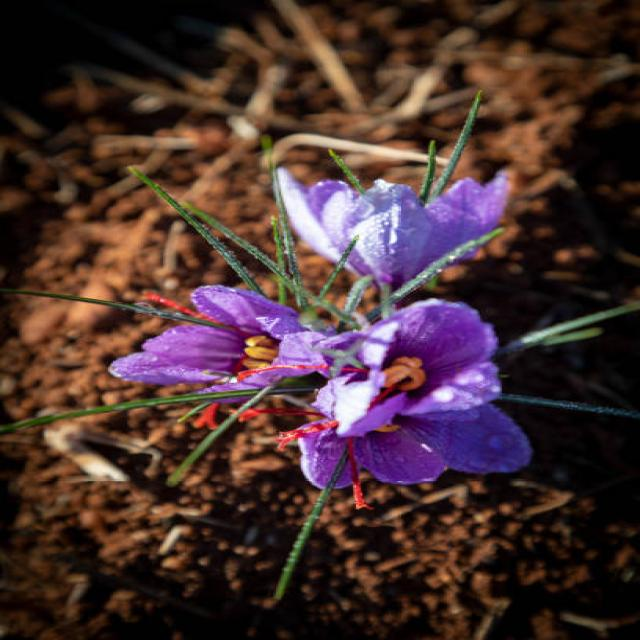saffron open: (280, 169, 508, 288), (315, 300, 501, 438), (111, 285, 324, 390)
